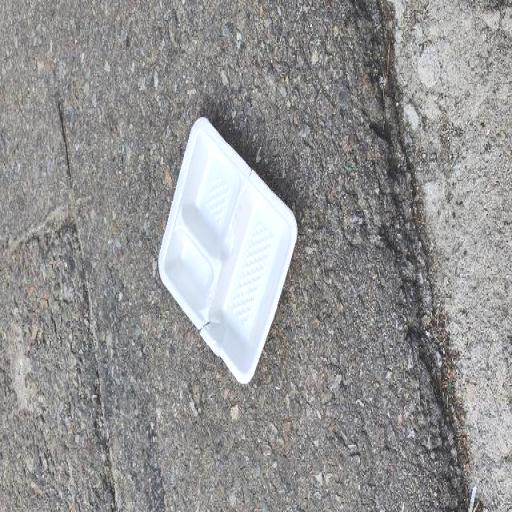styrofoam: (159, 117, 297, 382)
